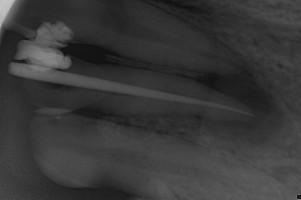Furcation Involvement: (193, 67, 282, 143)
